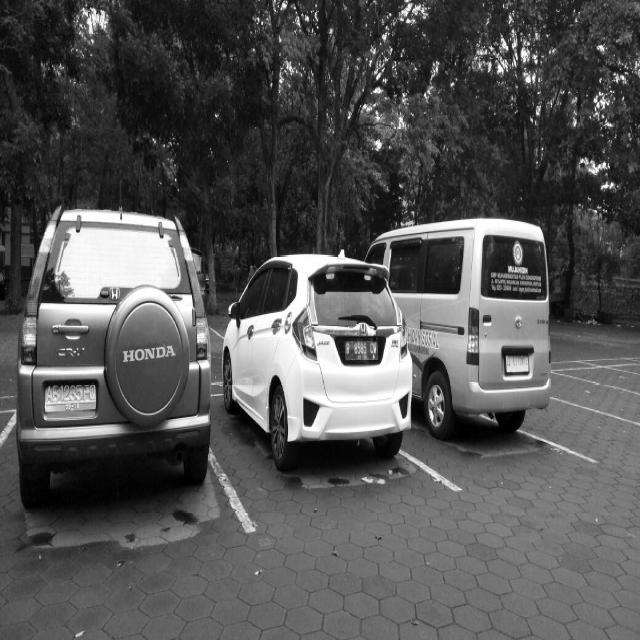license-plat: (339, 337, 381, 370)
